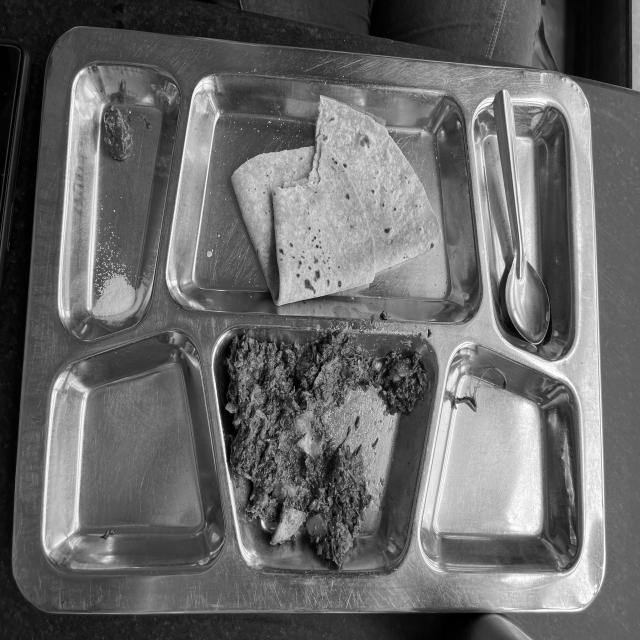20.9- Food Left: (56, 39, 596, 592)
